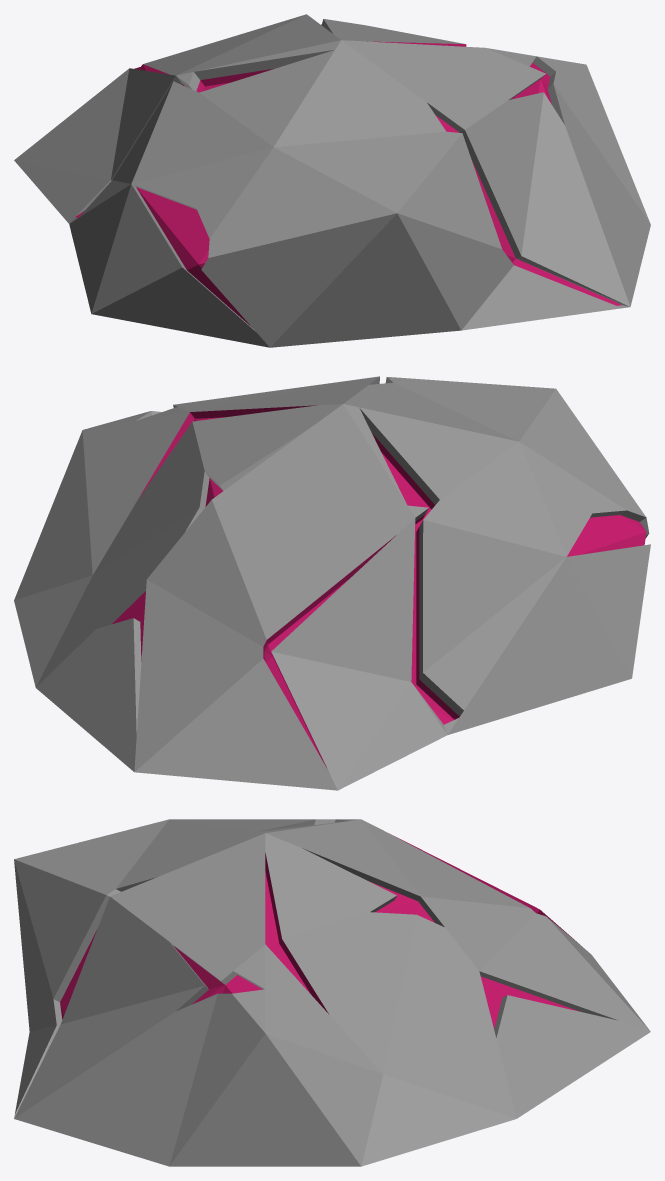
Rendered from pedraneonrosa.FBX.
The picture shows the model from 3 angles, top to bottom: view 1: azimuth 30°, elevation 25°; view 2: azimuth 150°, elevation 25°; view 3: azimuth 270°, elevation 25°; orthographic projection. The views are drawn at different scales.
Parts seen in each view (by area): view 1: GeoSphere001; view 2: GeoSphere001; view 3: GeoSphere001.
Boxes of the visible parts, x1,y1,x2,y2 form: GeoSphere001: (14, 14, 650, 347); GeoSphere001: (14, 376, 650, 790); GeoSphere001: (14, 819, 650, 1166).
Size of the model in its own units: 57.07 by 22.23 by 61.52.
